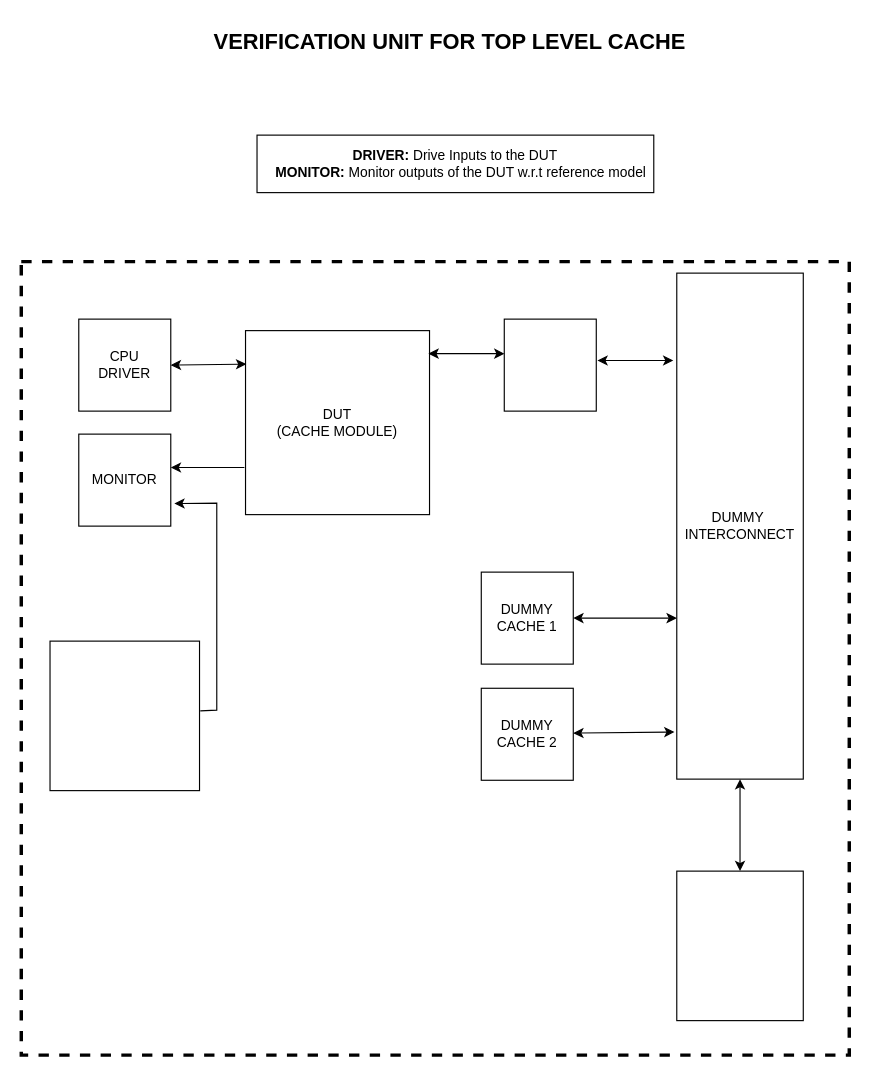
The diagram is 872 pixels wide and 1078 high, and some of its shapes have lost their labels. The box of each missing label's shape, as (x1, y1, x2, y2) in pixels:
DUMMY MAIN MEMORY: (676, 870, 803, 1021)
MEMORY SIDE DRIVER: (503, 318, 596, 411)
REFERENCE MODEL CACHE: (49, 640, 200, 791)
